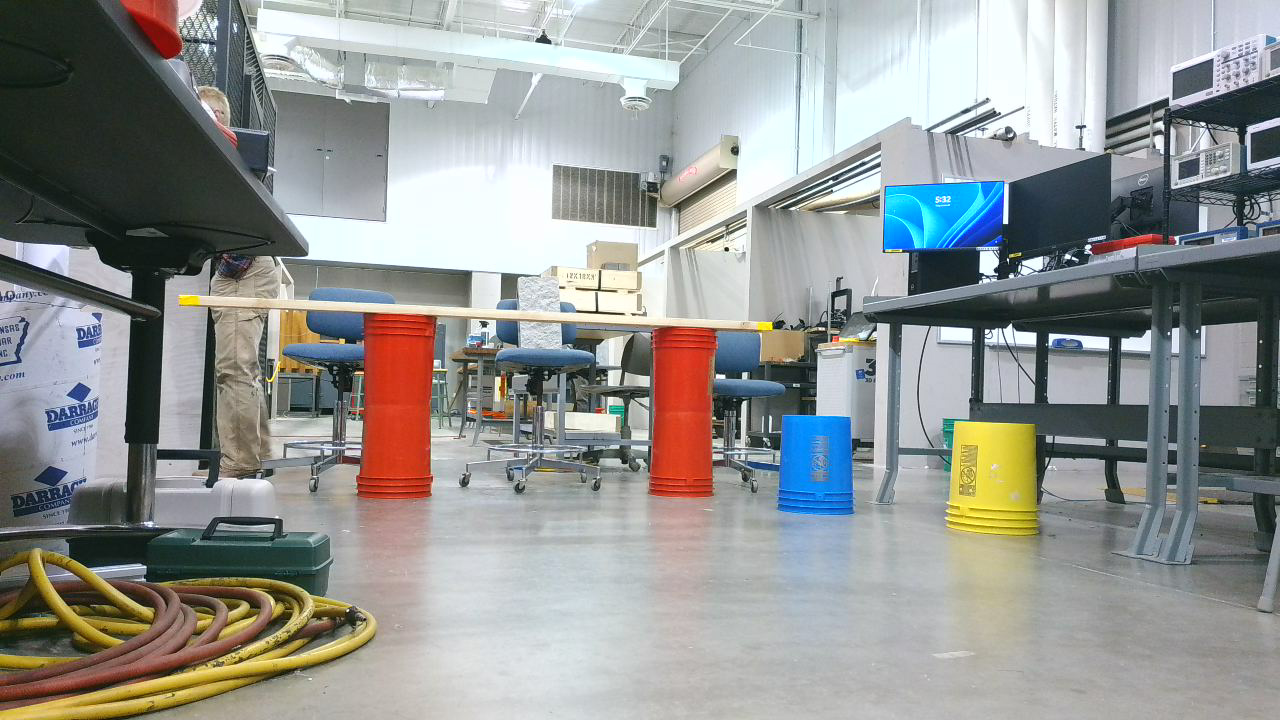blue_bucket: (777, 415, 863, 525)
red_bucket_arch: (357, 309, 727, 509)
yellow_bucket: (946, 422, 1053, 544)
